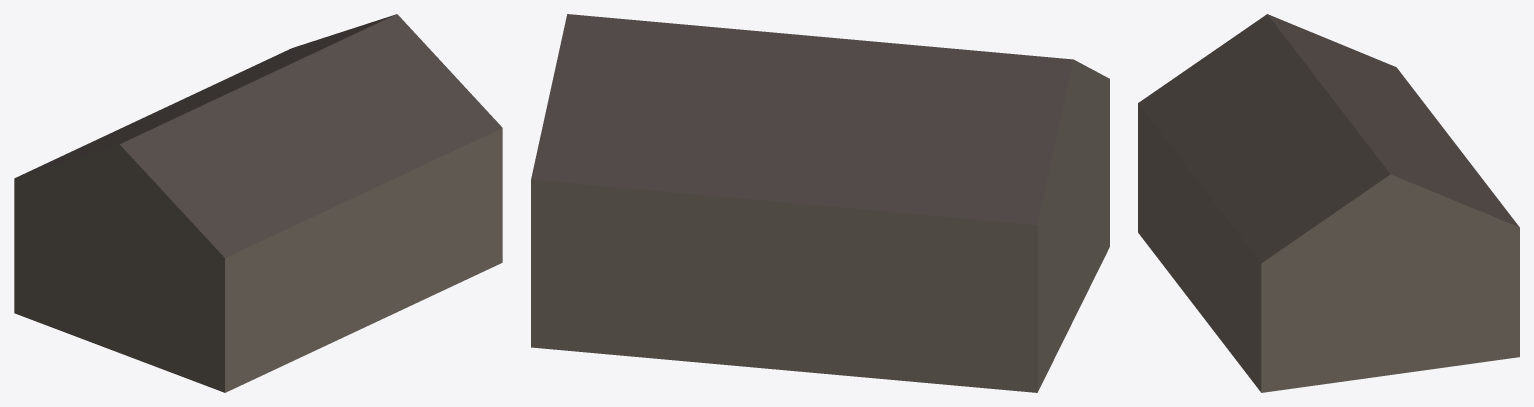
The picture shows the model from 3 angles, left to right: view 1: azimuth 30°, elevation 25°; view 2: azimuth 150°, elevation 25°; view 3: azimuth 270°, elevation 25°; orthographic projection. The views are drawn at different scales.
Parts seen in each view (by area): view 1: HP-w414733177; view 2: HP-w414733177; view 3: HP-w414733177.
Boxes of the visible parts, <box> form: HP-w414733177: <box>14,14,502,392</box>; HP-w414733177: <box>531,14,1109,392</box>; HP-w414733177: <box>1138,14,1519,392</box>.
Size of the model in its own units: 19.5 by 9.3 by 16.03.
